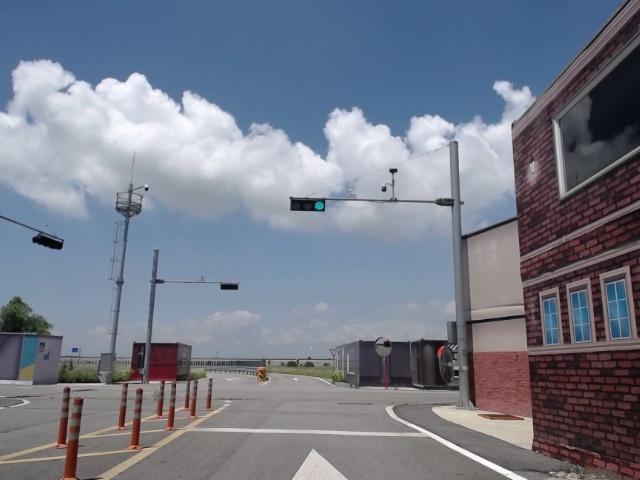green_3: (291, 199, 326, 209)
